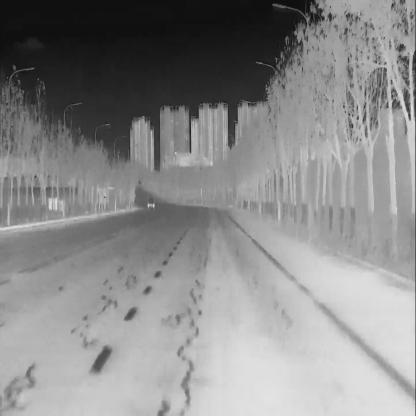car: (145, 196, 157, 210)
